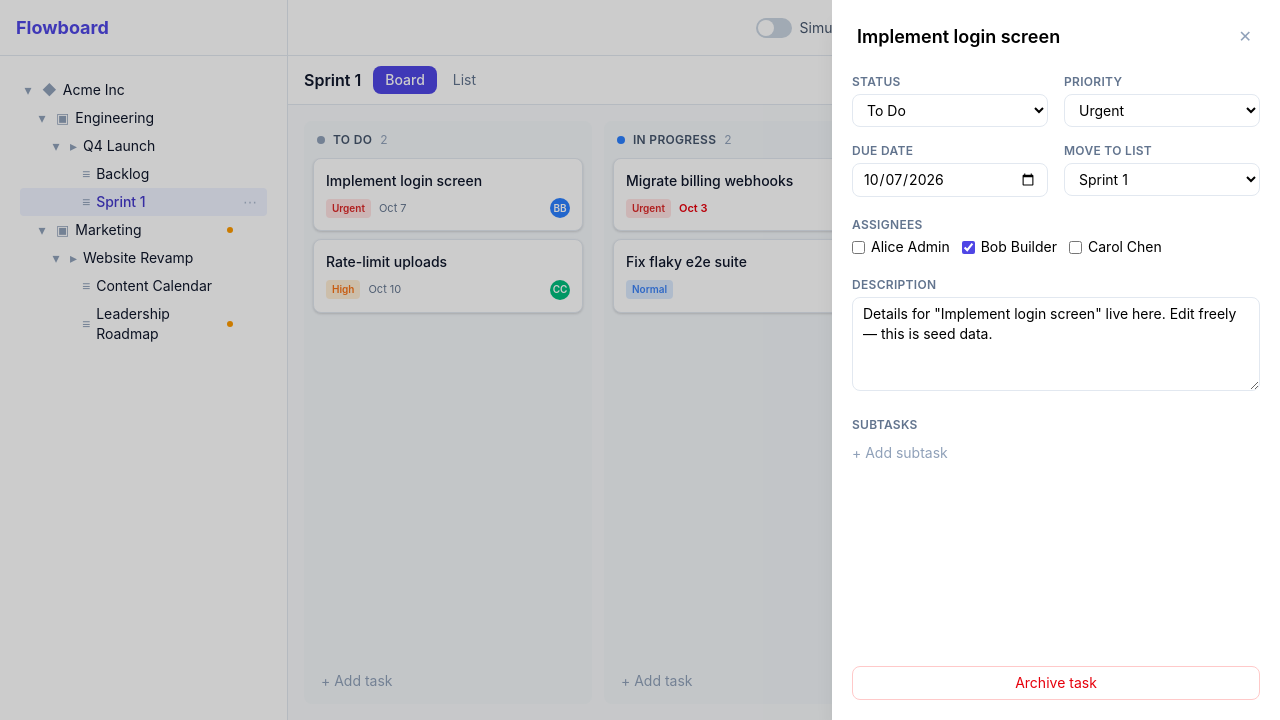
adding a subtask shows it in the checklist
Click the button "+ Add subtask" at (900, 453), box left=852, top=443, right=948, bottom=463
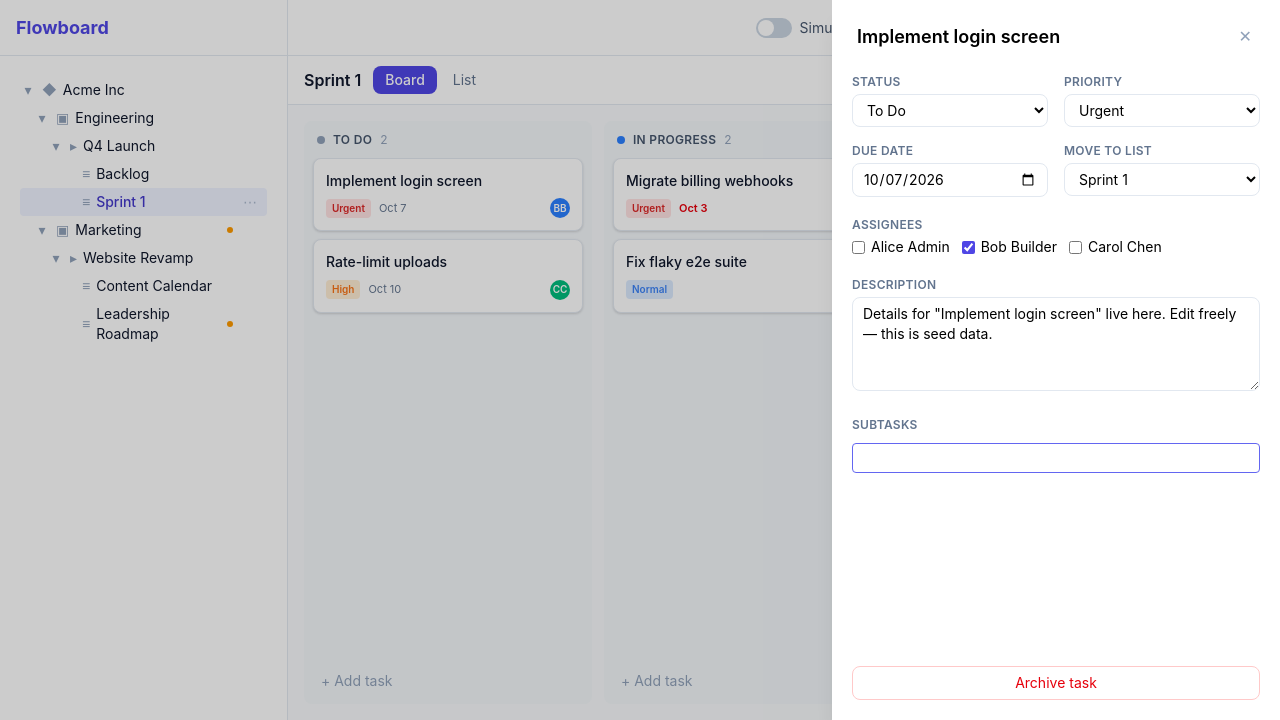
Type keys "Write unit tests{Enter}"
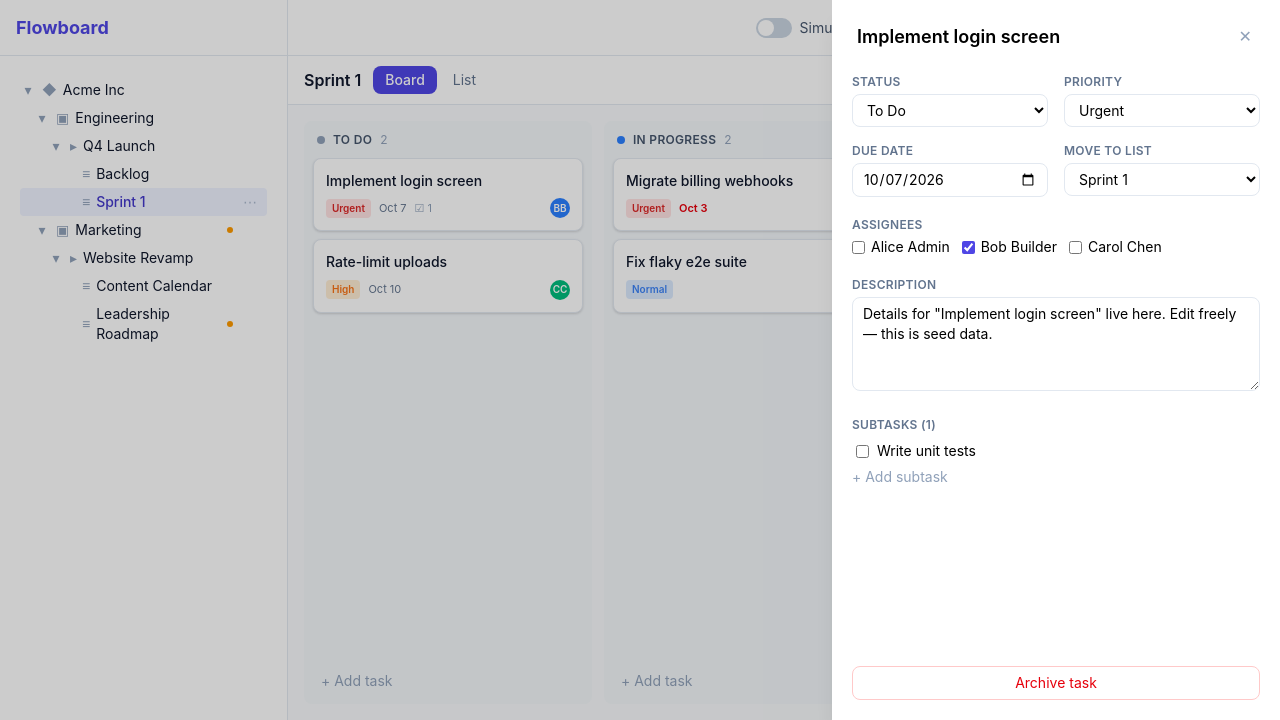
expect the text "Write unit tests" is shown: met, box left=877, top=442, right=976, bottom=459
